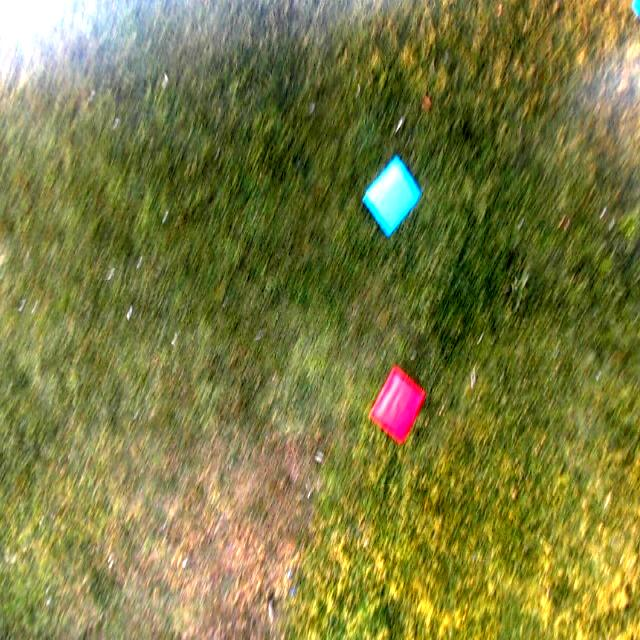blue_square: (363, 155, 422, 239)
red_square: (369, 366, 425, 442)
